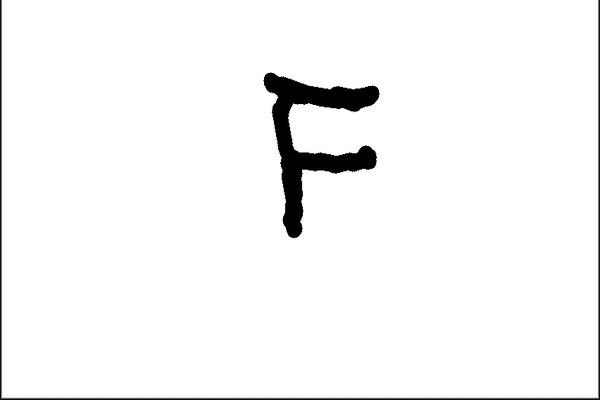F: (259, 67, 385, 242)
